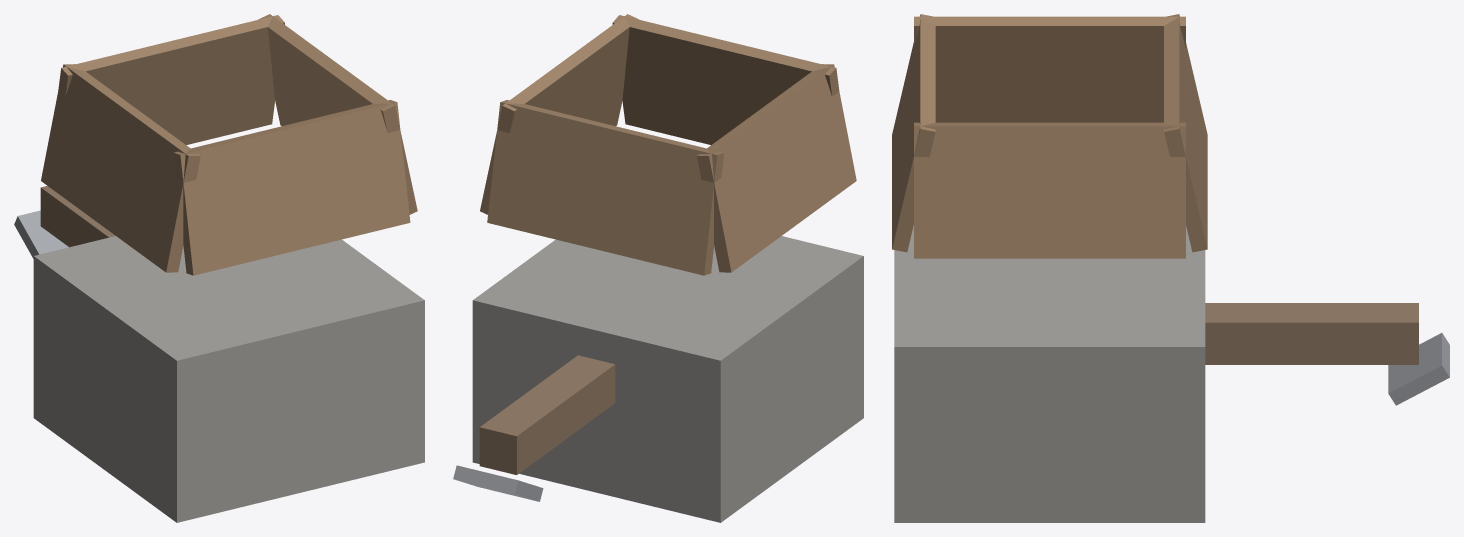
The model's file is build_planter.glb.
3 views of the same model, side by side, from view 1: azimuth 30°, elevation 25°; view 2: azimuth 150°, elevation 25°; view 3: azimuth 270°, elevation 25° (orthographic). The views are drawn at different scales.
Visible parts, largest first — view 1: Baked; view 2: Baked; view 3: Baked.
Part boxes in pixels (x1,y1,x2,y2): Baked: (14, 14, 424, 522); Baked: (453, 14, 863, 522); Baked: (892, 14, 1449, 522).
Bounding box in the file's own units: 0.8119 × 1.1 × 1.44.
